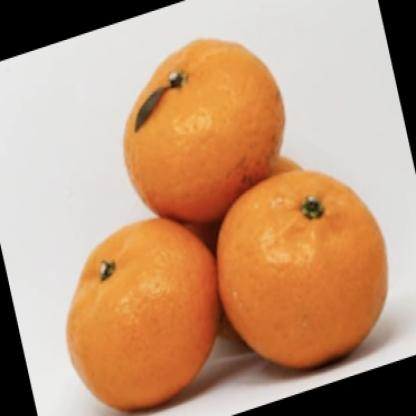fresh: (69, 40, 390, 416)
